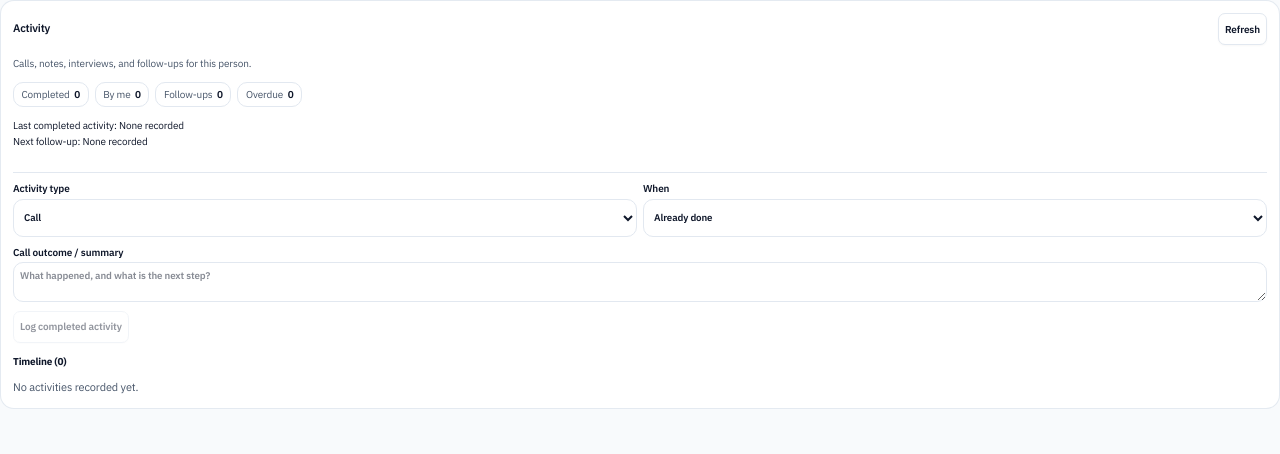
Test case: Candidate activity interaction › retains the entered outcome when saving fails and never shows success
The image size is (1280, 454).
expect the text "No activities recorded yet." is shown: met, box [13,380,138,394]
In the text box labelled "Call outcome / summary": (640, 282) [13,262,1267,302], type "Reached candidate"
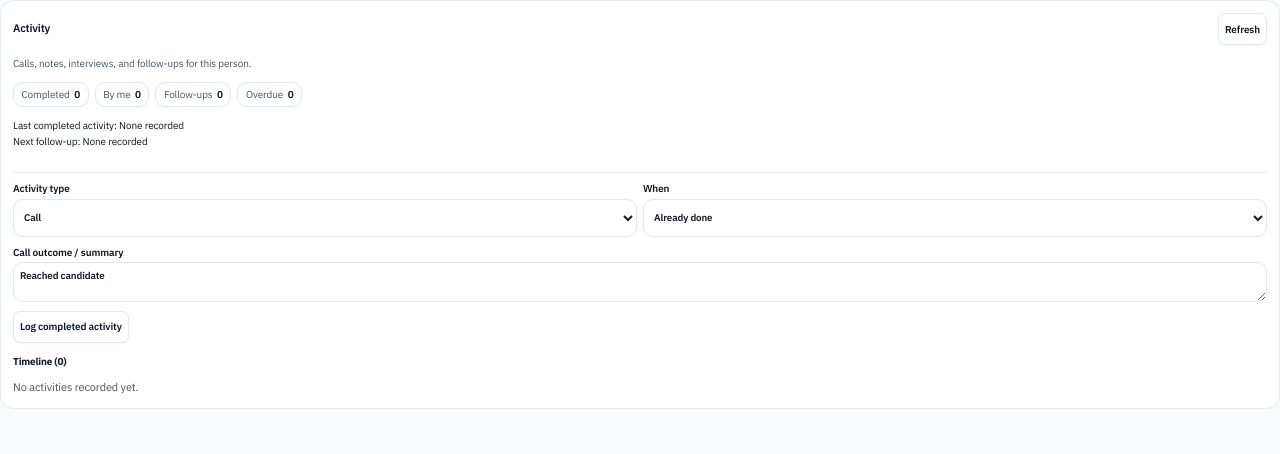
Click the button "Log completed activity": (71, 327) [13,311,129,343]
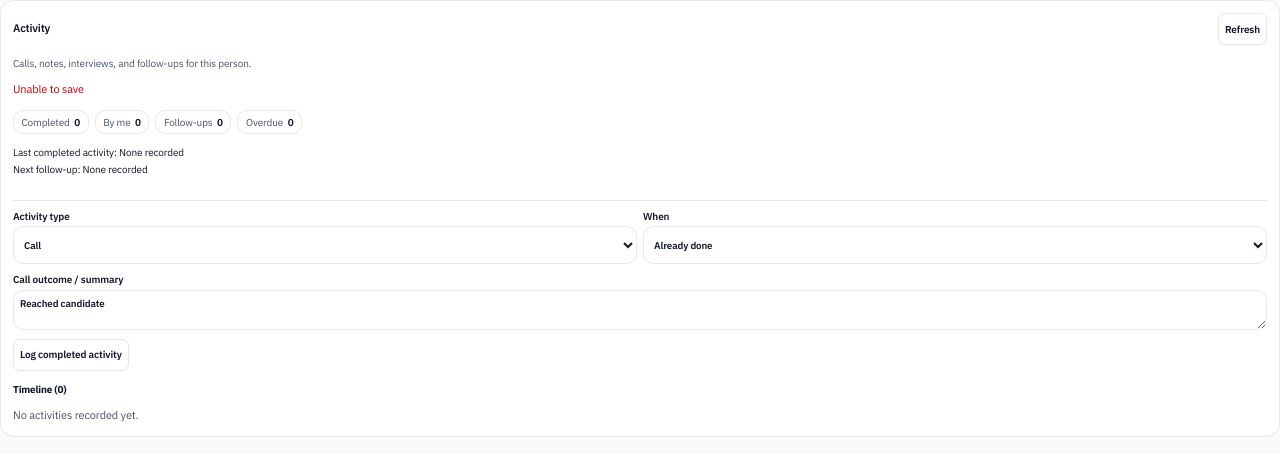
expect the message reads "Unable to save": met, box [13,82,84,96]
